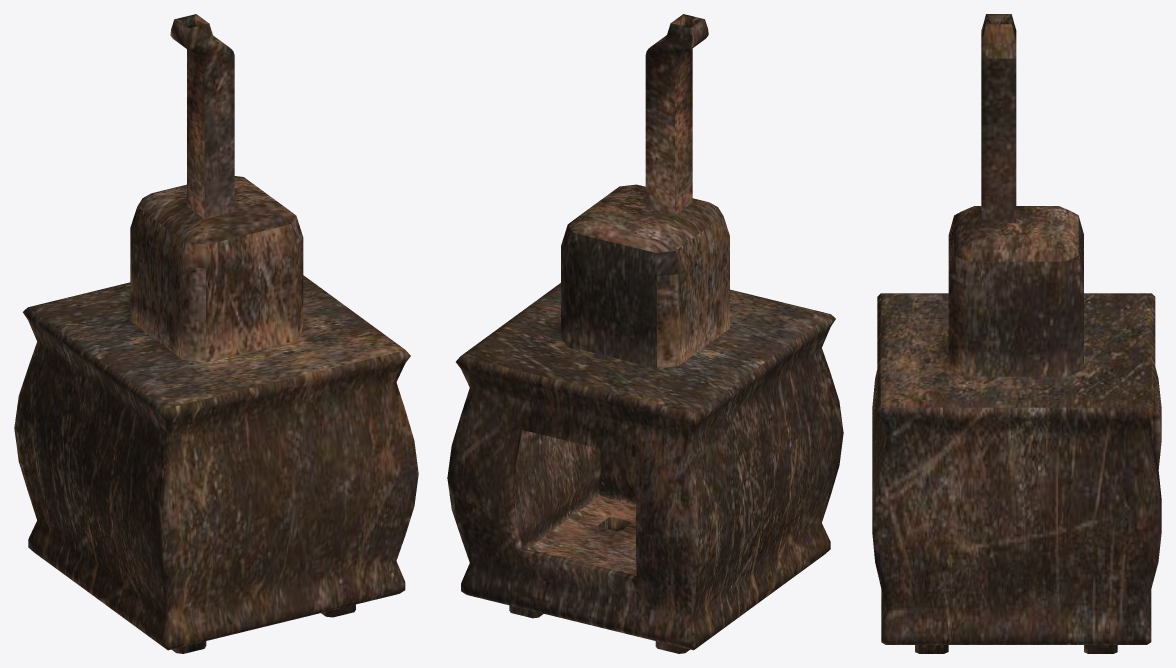
File: furnaceTexturedWoohoo.fbx
3 views of the same model, side by side, from view 1: azimuth 30°, elevation 25°; view 2: azimuth 150°, elevation 25°; view 3: azimuth 270°, elevation 25° (orthographic). The views are drawn at different scales.
Parts seen in each view (by area): view 1: Cube; view 2: Cube; view 3: Cube.
Part boxes in pixels (x1=…): Cube: x1=14, y1=14, x2=418, y2=653; Cube: x1=447, y1=14, x2=843, y2=653; Cube: x1=872, y1=14, x2=1161, y2=653.
Bounding box in the file's own units: 214 × 470 × 214.
